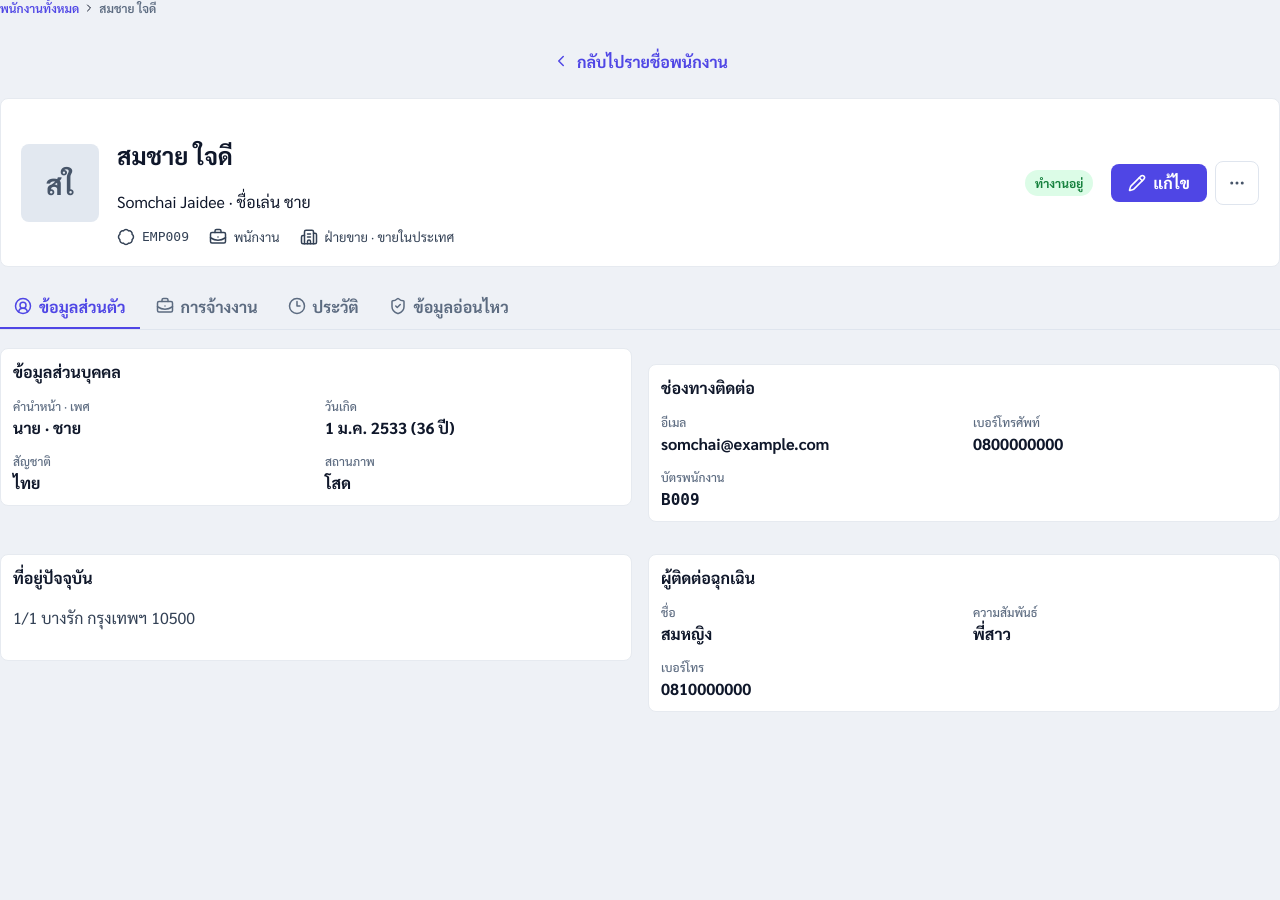
Test: EmployeeDetailPage — ตั้งรหัสผ่านชั่วคราว (issue #744) › asks for confirmation before firing the request
Step 1. Click the button named "การดำเนินการเพิ่มเติม" → {"x": 1237, "y": 183}, box [1215, 161, 1259, 205]
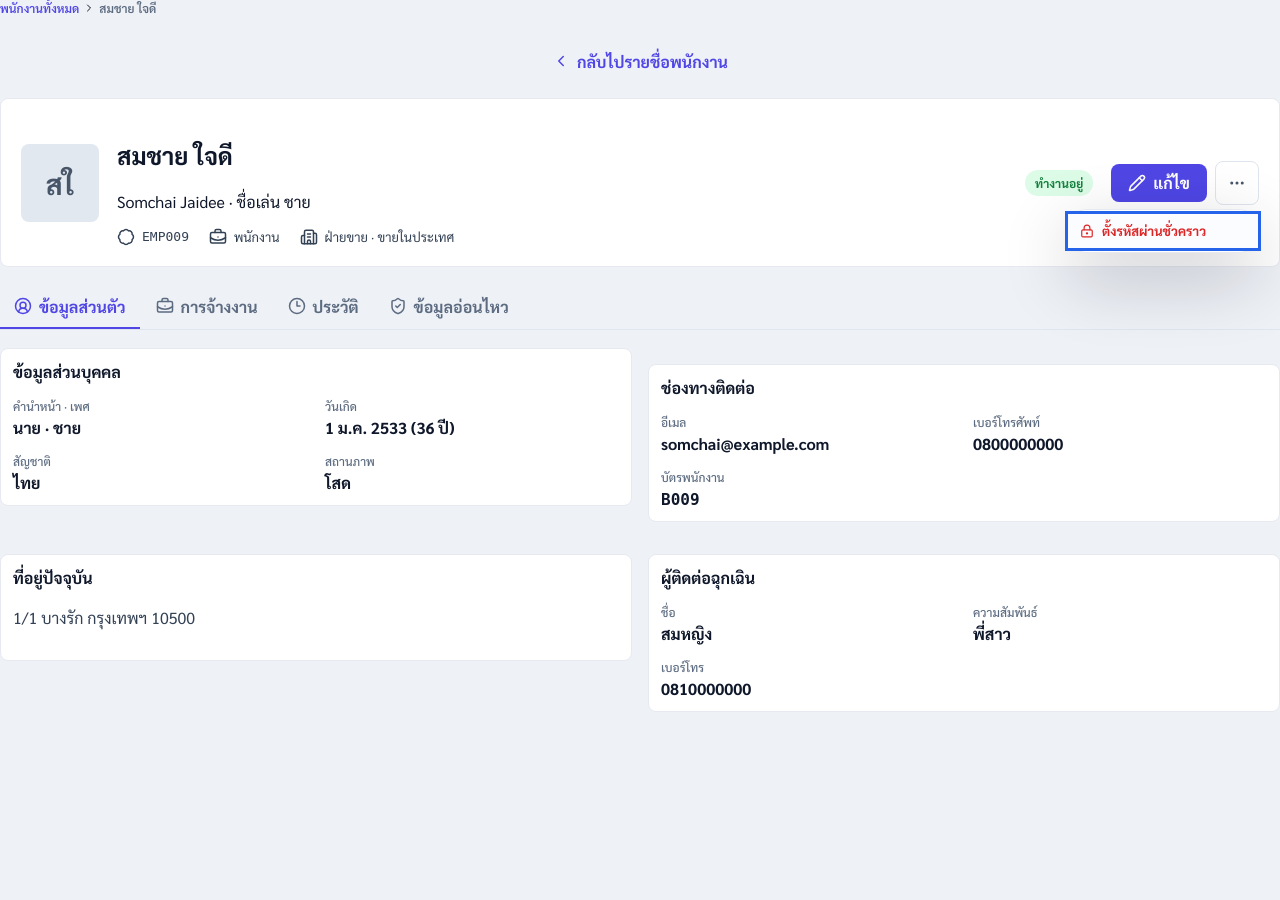
Step 2. Click the menu item "ตั้งรหัสผ่านชั่วคราว" → {"x": 1163, "y": 231}, box [1068, 214, 1258, 248]
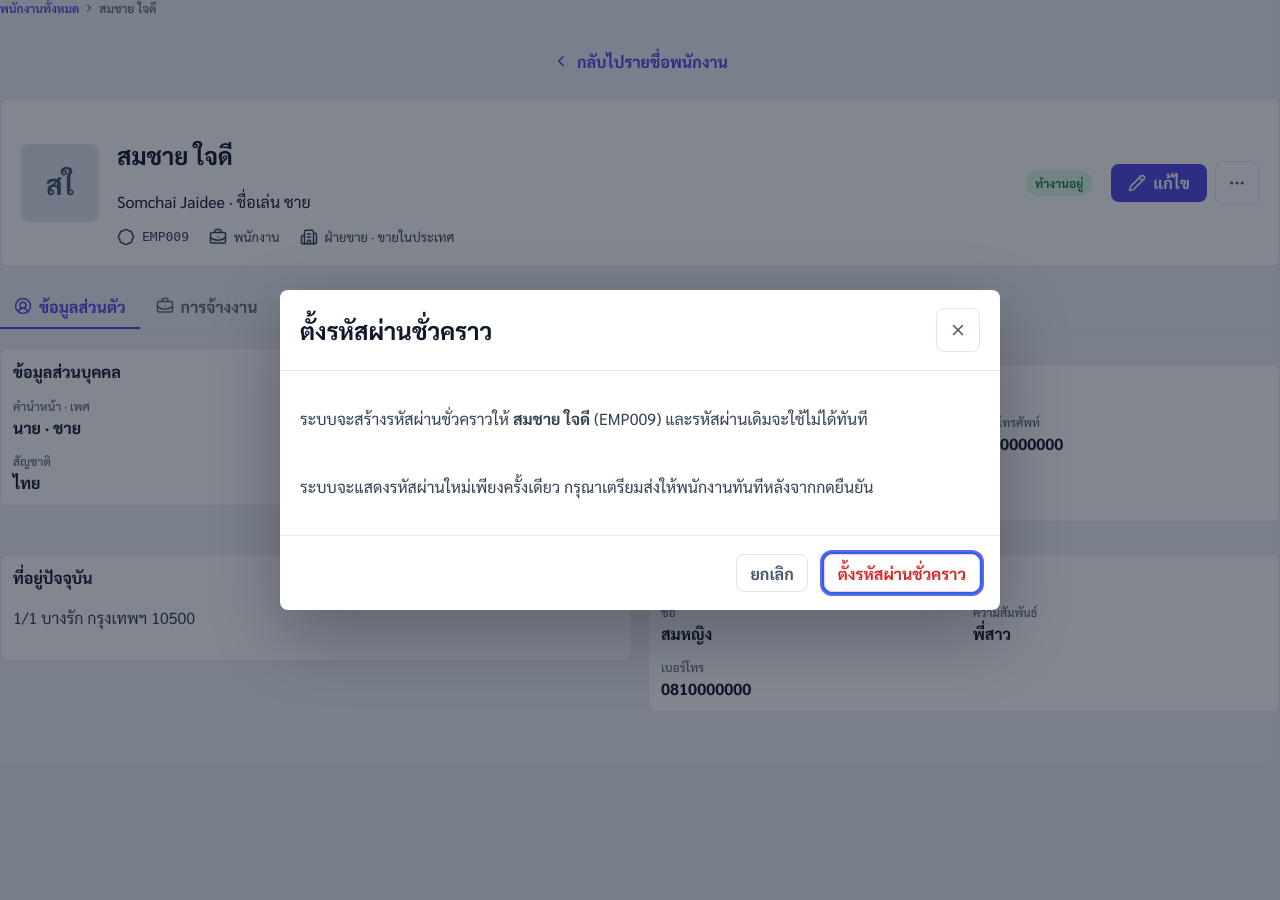
Expected: the text "รหัสผ่านเดิมจะใช้ไม่ได้ทันที" is shown, [656, 408, 868, 429]
